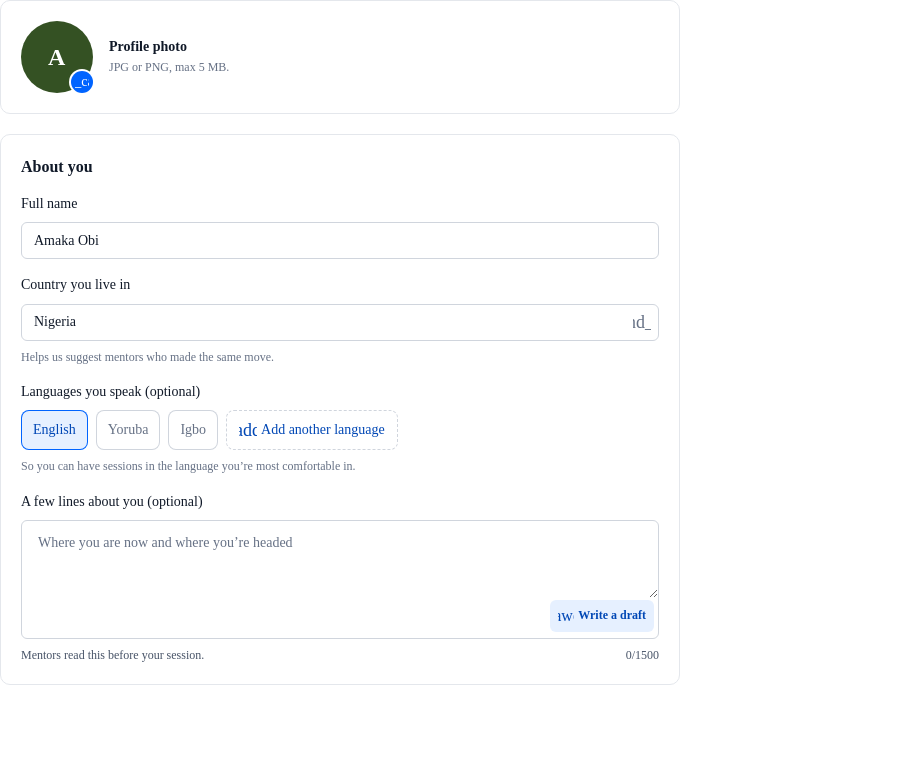
Test: ProfilePanel › "Add another language" searches the catalog and adds the pick
Click the button "add Add another language" at (312, 430), box [226,410,398,450]
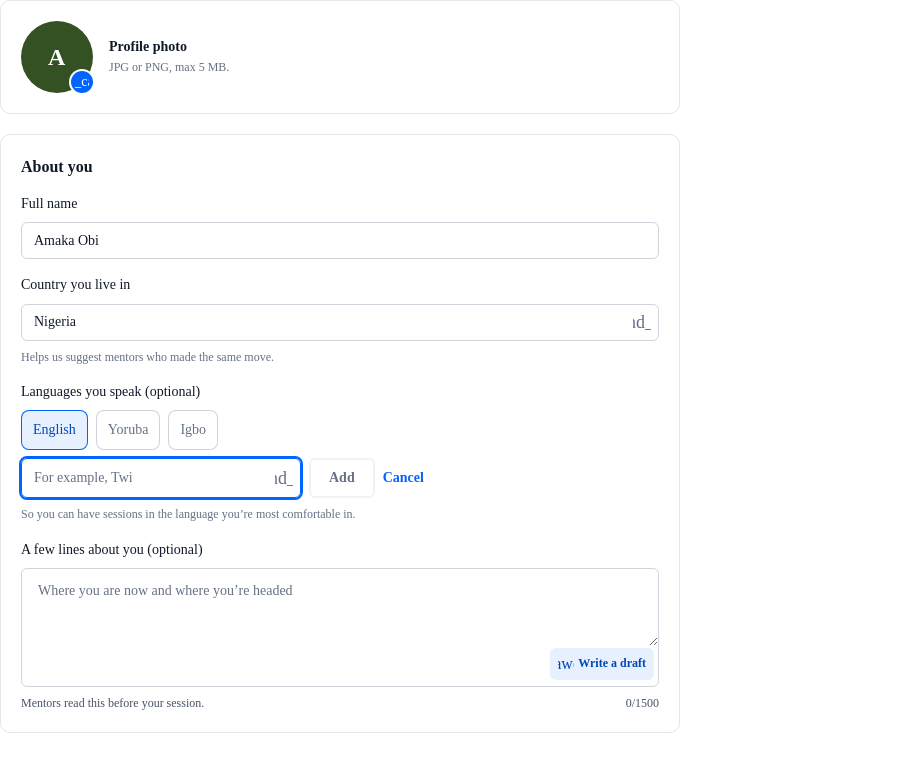
Type "yor" into the dropdown named "Add another language" at (161, 478), box [21,458,301,498]
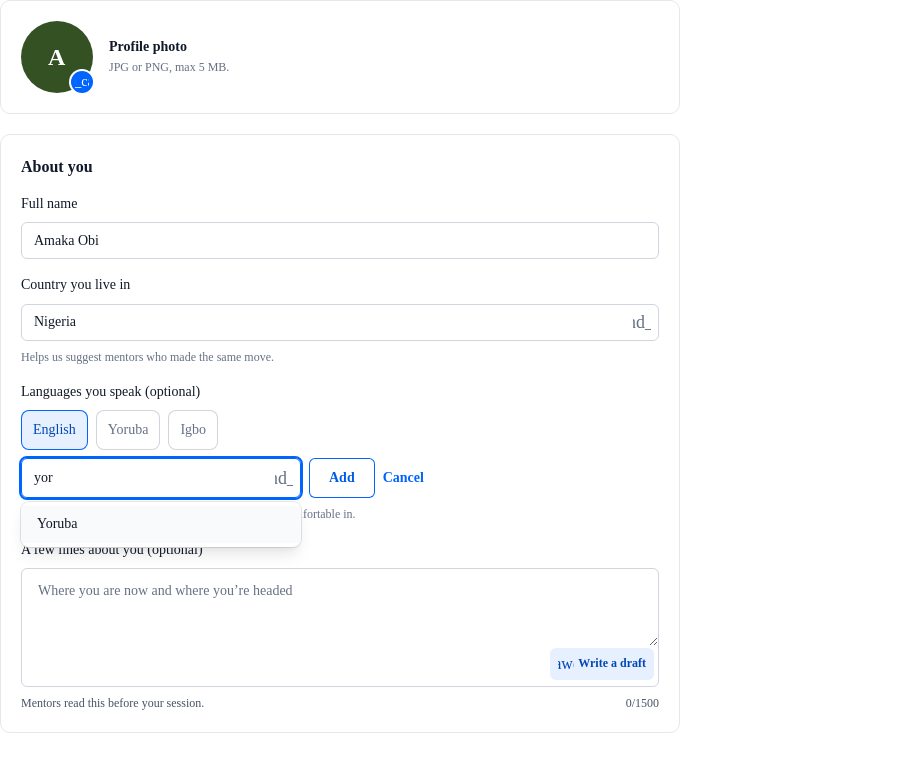
Press Enter
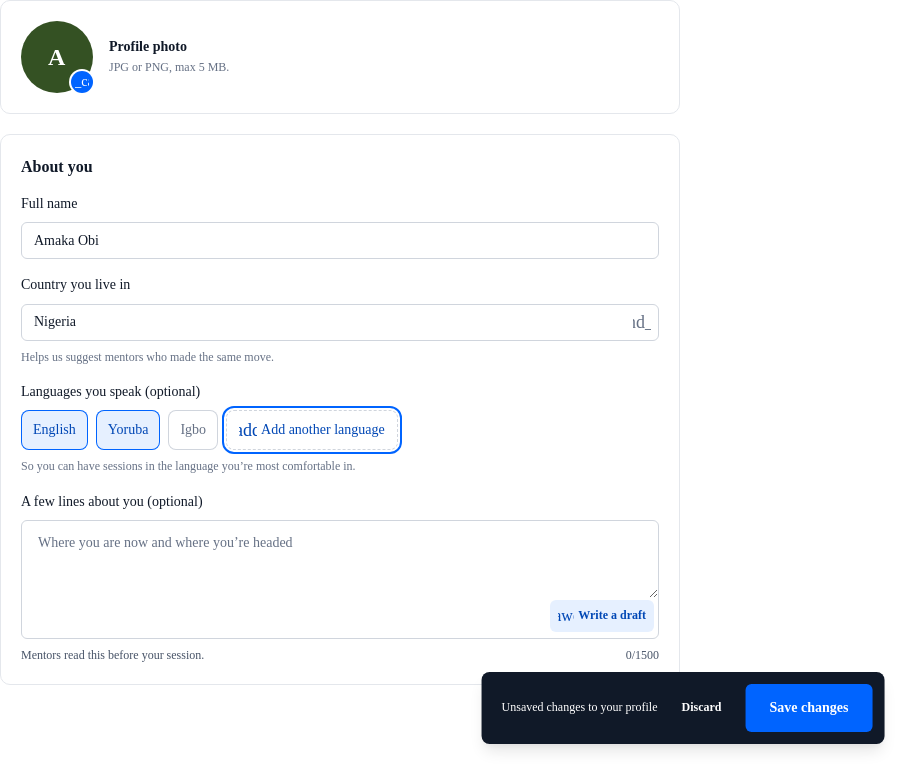
Check: the button "add Add another language" is shown, box [226,410,398,450]
